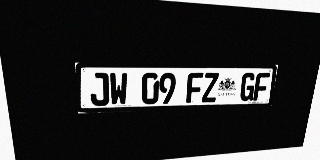0: (142, 73, 159, 105)
9: (159, 73, 176, 104)
F: (186, 73, 203, 103), (253, 73, 270, 101)
G: (239, 73, 256, 101)
J: (89, 73, 109, 106)
W: (109, 73, 128, 106)
Z: (202, 73, 219, 102)
